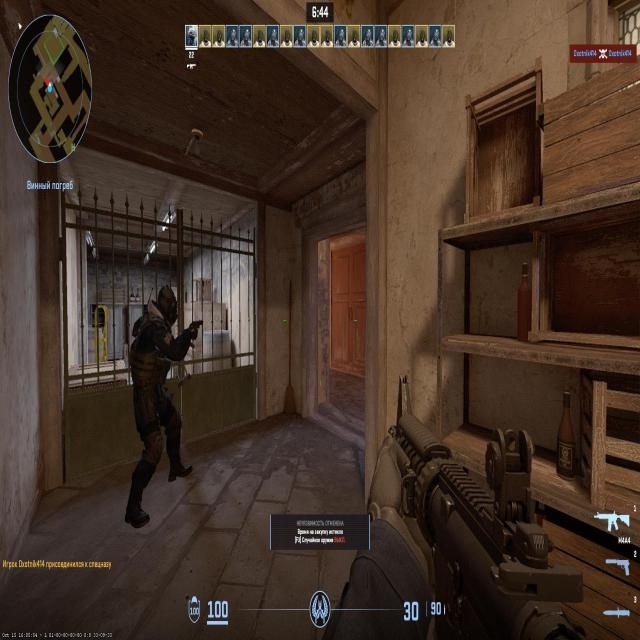CT: (144, 284, 170, 436)
CT_heat: (153, 296, 164, 324)
